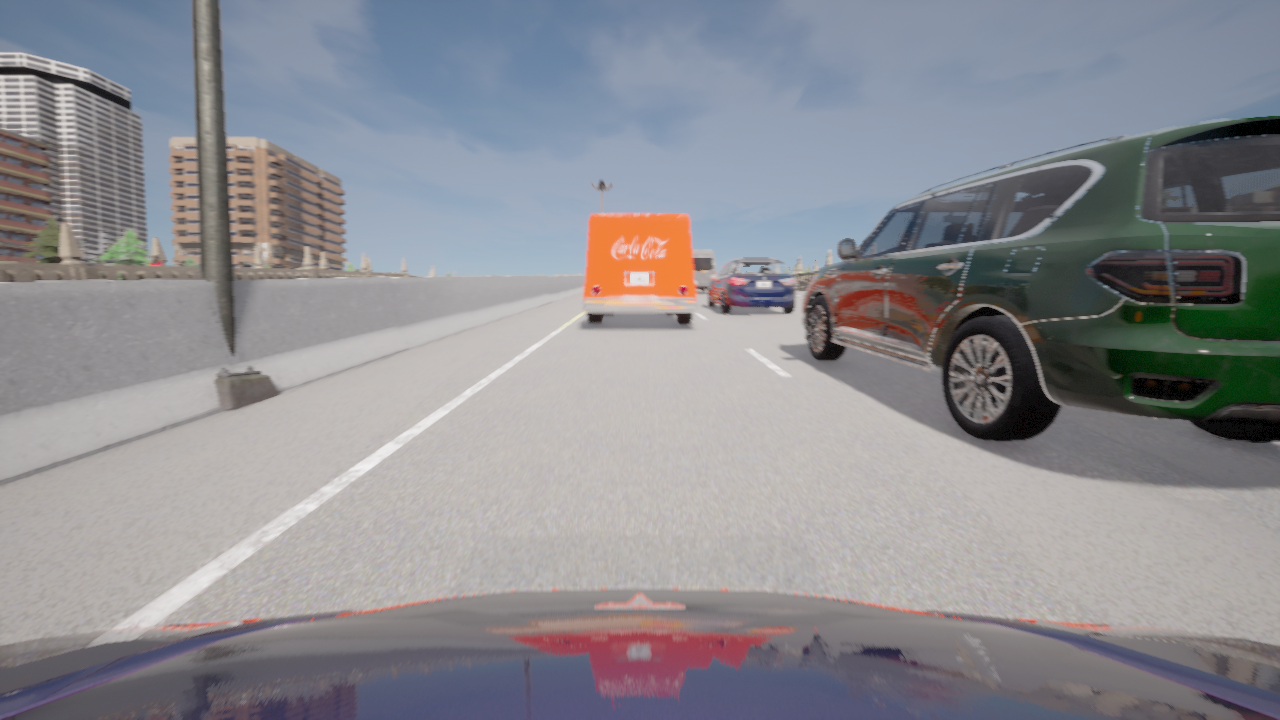cyclist: (0, 588, 1279, 719), (803, 115, 1279, 441), (583, 214, 698, 324), (707, 258, 795, 313), (692, 250, 715, 291)
pedestrian: (150, 256, 164, 279)
